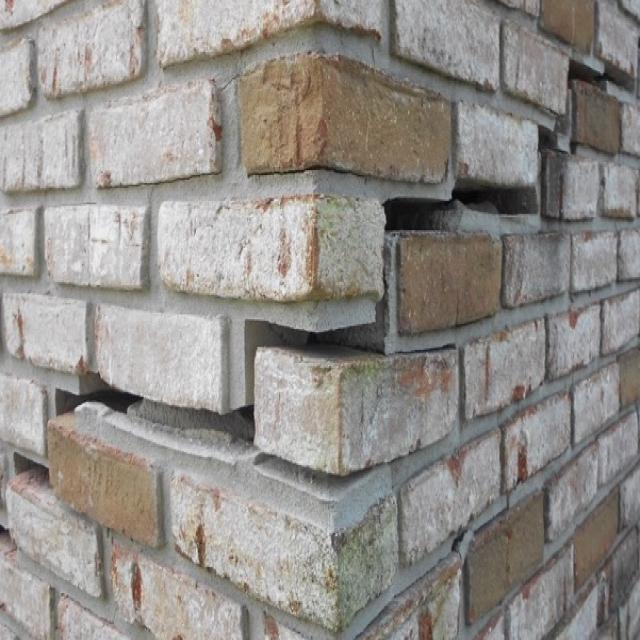Crack: (311, 48, 639, 364), (6, 308, 311, 530)
